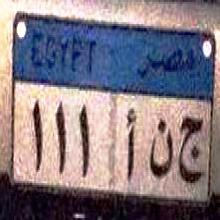1: (77, 100, 92, 183), (55, 101, 69, 174), (32, 100, 44, 174)
alif: (125, 106, 138, 179)
jeem: (178, 109, 204, 192)
noon: (148, 113, 172, 180)
